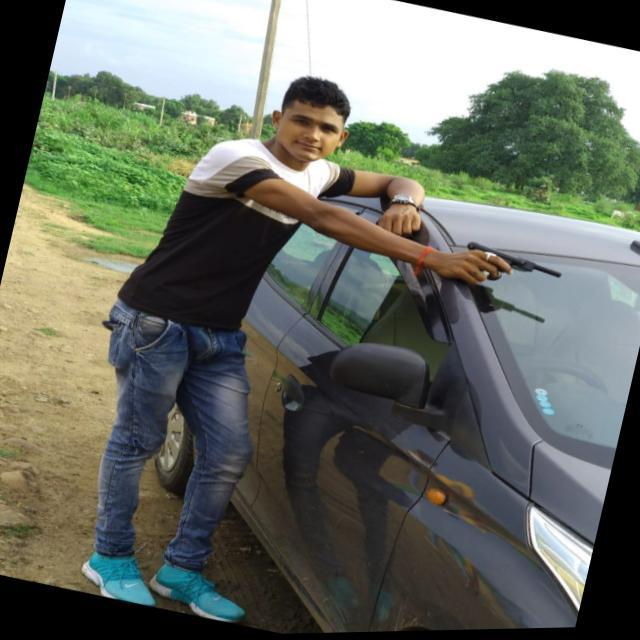weapon: (448, 236, 569, 303)
